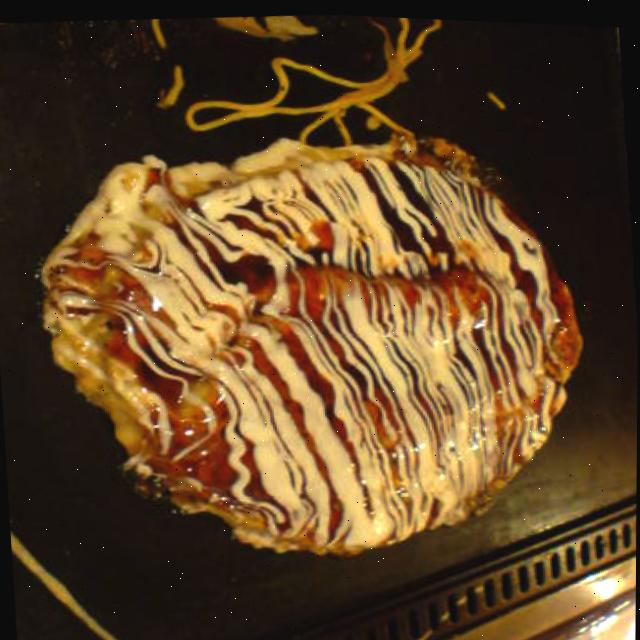蛋糕甜品: (28, 97, 607, 576)
